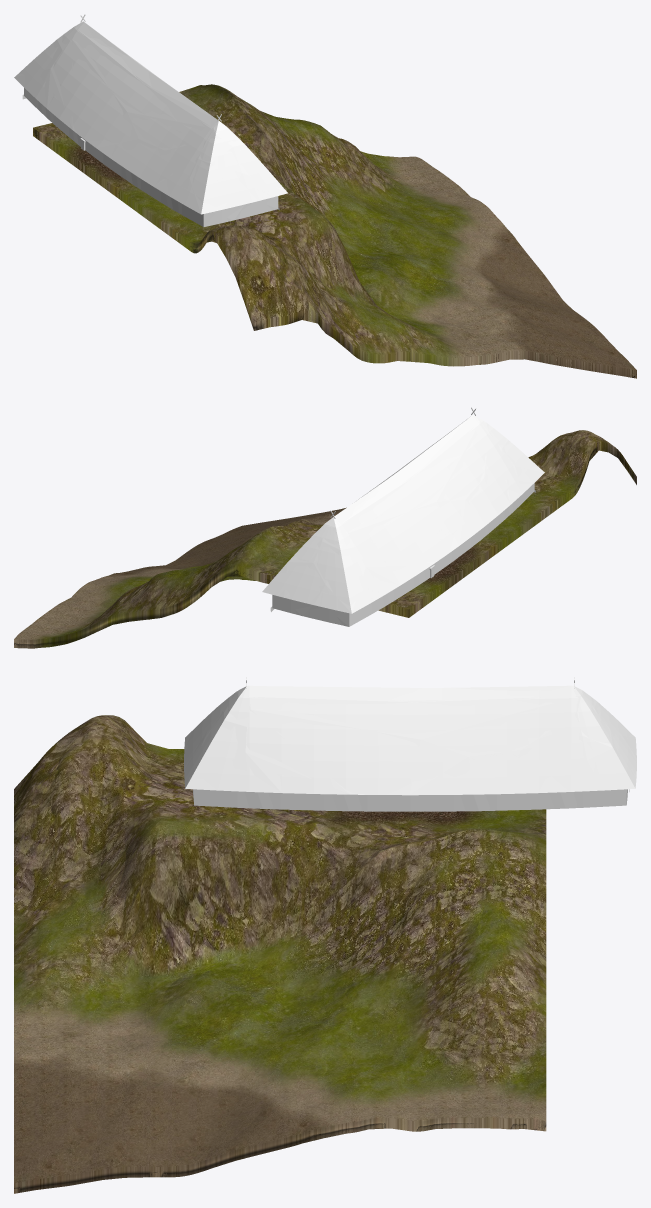
File: chunk_4_3.glb
3 renders of one model, top to bottom at view 1: azimuth 30°, elevation 25°; view 2: azimuth 150°, elevation 25°; view 3: azimuth 270°, elevation 25°, orthographic. The views are drawn at different scales.
Parts seen in each view (by area): view 1: Terrain_L0, Terrain_L2, Buildings_L0, Terrain_L1, Buildings_L1; view 2: Buildings_L0, Terrain_L0, Terrain_L2, Buildings_L1, Terrain_L1; view 3: Terrain_L2, Terrain_L0, Buildings_L0, Terrain_L1, Buildings_L1.
Part boxes in pixels (x1,y1,x2,y2): Terrain_L0: (33,84,636,378); Terrain_L2: (33,88,621,372); Buildings_L0: (19,14,283,226); Terrain_L1: (33,84,636,378); Buildings_L1: (14,23,287,227); Buildings_L0: (263,407,536,626); Terrain_L0: (14,430,636,648); Terrain_L2: (14,443,636,647); Buildings_L1: (262,418,544,626); Terrain_L1: (14,431,636,648); Terrain_L2: (14,721,546,1192); Terrain_L0: (14,715,546,1193); Buildings_L0: (184,677,636,811); Terrain_L1: (14,724,546,1193); Buildings_L1: (184,685,636,811).
Size of the model in its own units: 96 by 65.06 by 112.
4 materials, 1 textured.
